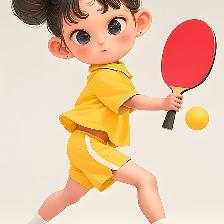YellowBall: (185, 106, 209, 130)
